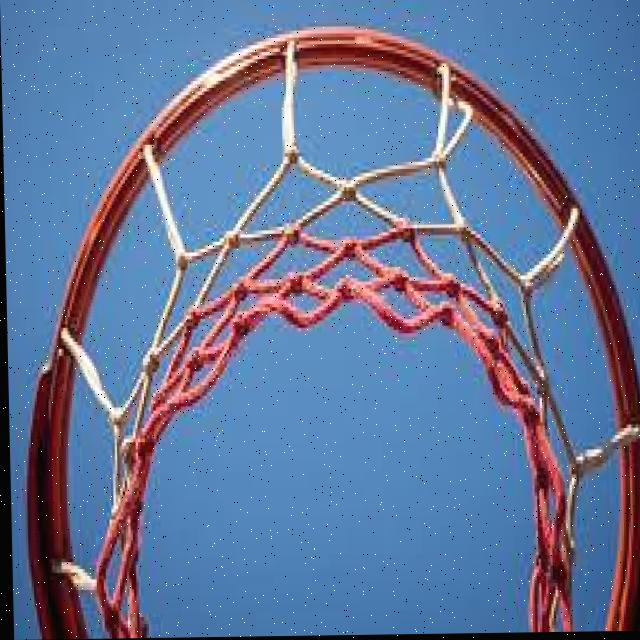hoop: (26, 19, 640, 640)
